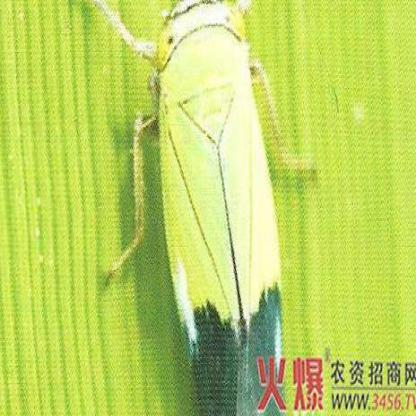green-leafhopper: (154, 0, 284, 416)
